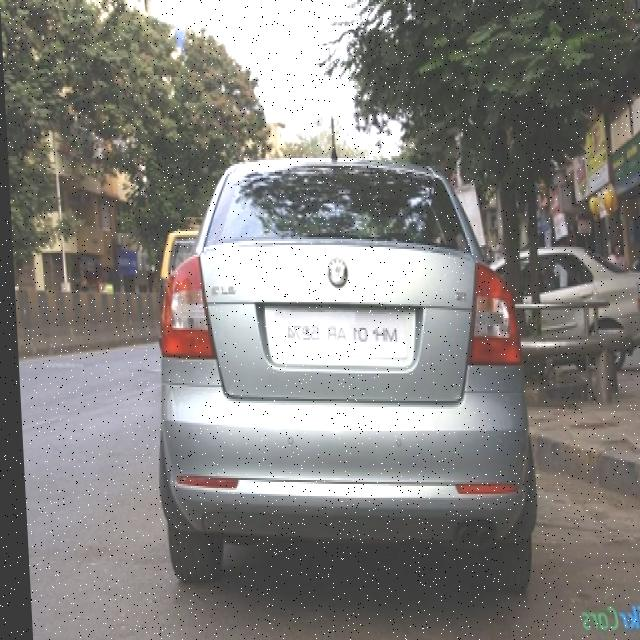plate: (268, 313, 406, 361)
